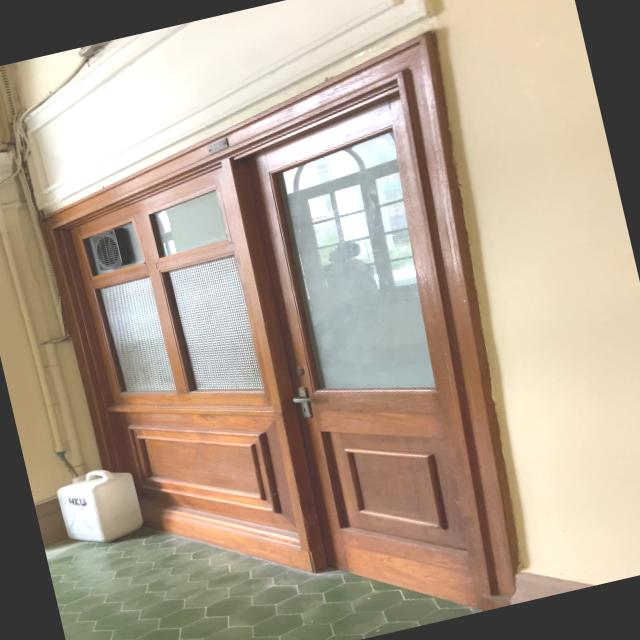room230: (203, 136, 233, 156)
